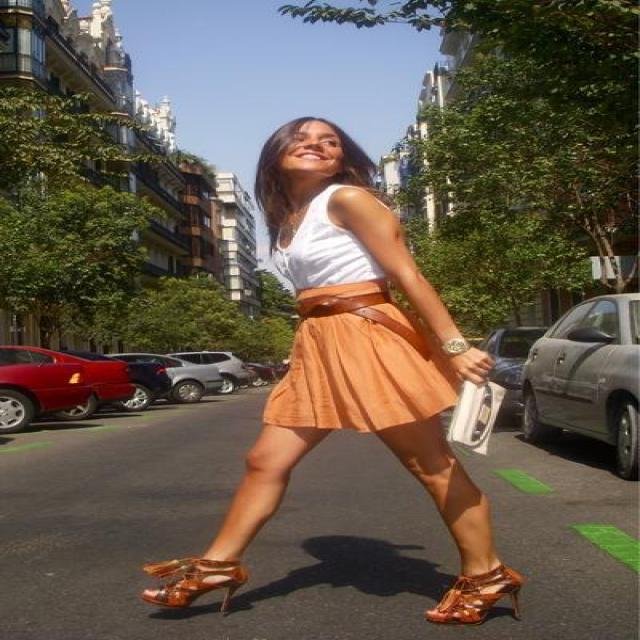bag: (446, 381, 506, 453)
shirt: (254, 184, 376, 300)
shoe: (144, 562, 525, 618)
skirt: (264, 280, 474, 431)
